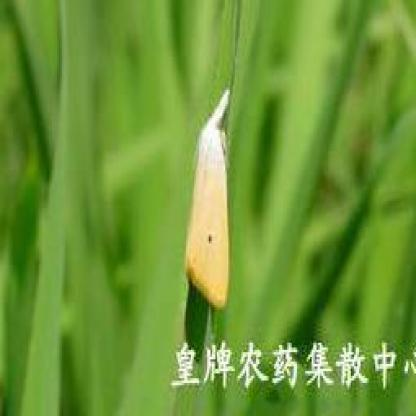stem-borer: (183, 86, 234, 316)
